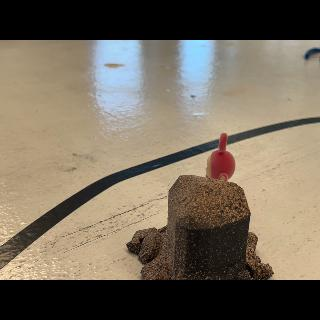teletubby: (206, 133, 235, 181)
